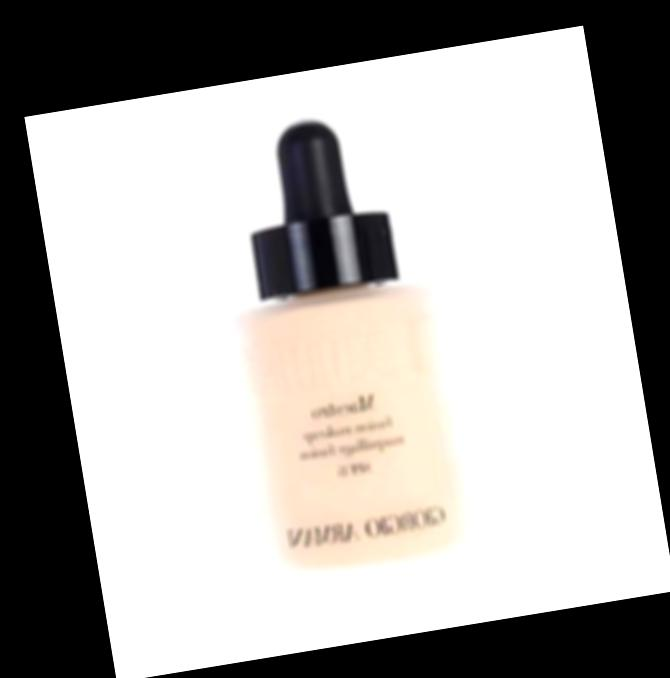cosmetic: (197, 101, 489, 605)
